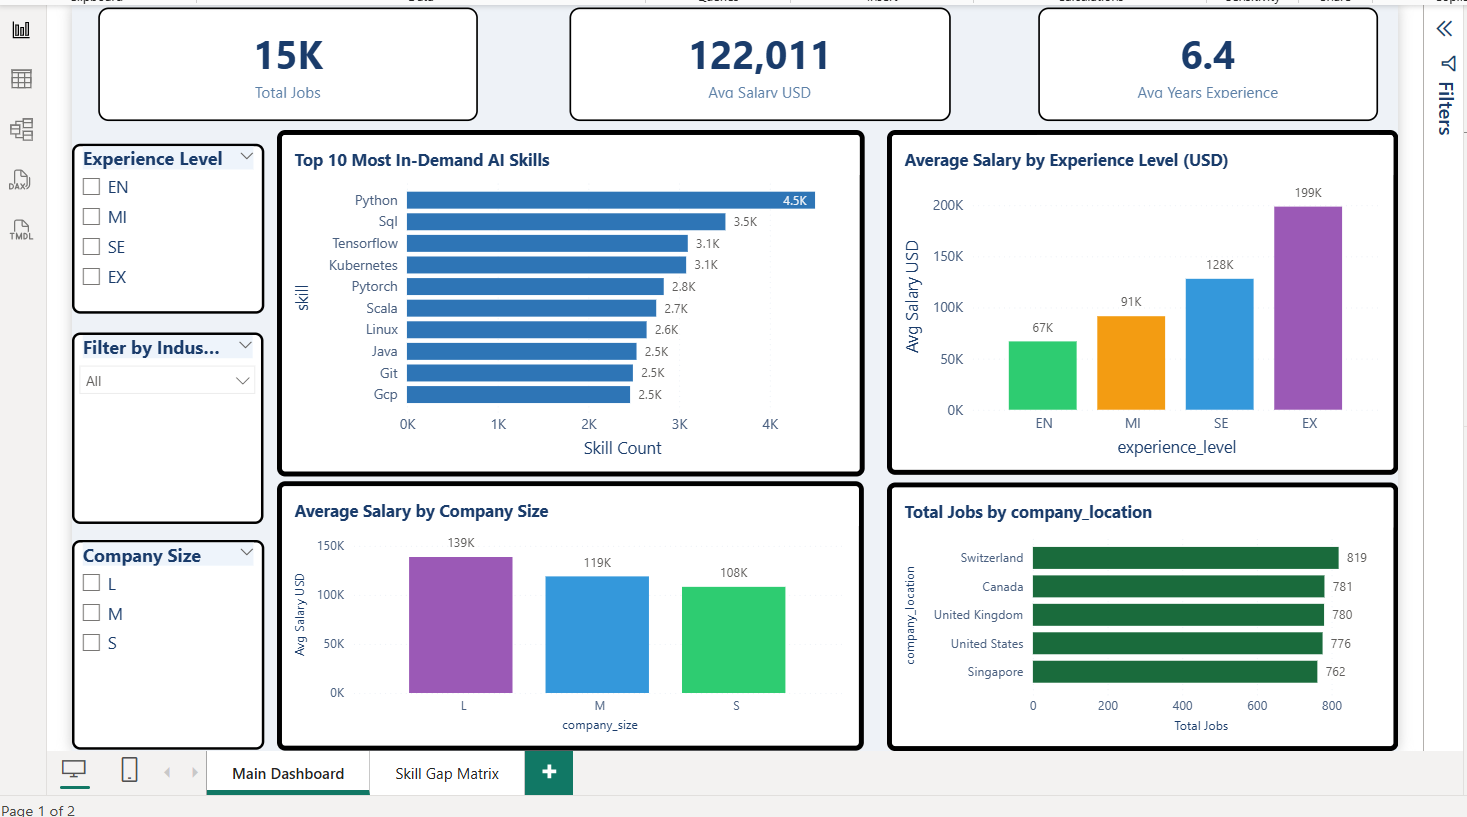

The page's visual inventory and layout, read from the dashboard file:
{"tool":"powerbi","page":{"name":"Main Dashboard","canvas":[1280,720],"ordinal":0},"visuals":[{"type":"card","fields":{"Values":["ai_job_dataset1.Total Jobs"]},"box":[25.3,2.4,366.8,109.8],"z":0},{"type":"card","fields":{"Values":["ai_job_dataset1.Avg Salary USD"]},"box":[480.2,2.4,368,109.8],"z":1000},{"type":"card","fields":{"Values":["ai_job_dataset1.Avg Years Experience"]},"box":[932.6,2.4,328.2,109.8],"z":2000},{"type":"slicer","fields":{"Values":["ai_job_dataset1.experience_level"]},"box":[0,133.9,185.8,164.1],"z":3000},{"type":"slicer","fields":{"Values":["ai_job_dataset1.industry"]},"box":[0,316.1,184.6,184.6],"z":4000},{"type":"slicer","title":"Company Size","fields":{"Values":["ai_job_dataset1.company_size"]},"box":[0,516.4,185.8,202.7],"z":5000},{"type":"clusteredBarChart","title":"Top 10 Most In-Demand AI Skills","fields":{"Category":["ai_job_dataset1.skill"],"Y":["ai_job_dataset1.Skill Count"]},"box":[197.9,120.6,567,334.2],"z":6000},{"type":"clusteredColumnChart","title":"Average Salary by Experience Level (USD)","fields":{"Category":["ai_job_dataset1.experience_level"],"Y":["ai_job_dataset1.Avg Salary USD"]},"box":[786.6,120.6,493.4,333],"z":7000},{"type":"clusteredColumnChart","title":"Average Salary by Company Size","fields":{"Category":["ai_job_dataset1.company_size"],"Y":["ai_job_dataset1.Avg Salary USD"]},"box":[197.6,460.2,566.1,259.8],"z":8000},{"type":"clusteredBarChart","fields":{"Category":["ai_job_dataset1.company_location"],"Y":["ai_job_dataset1.Total Jobs"]},"box":[786.6,460.9,493.4,259.4],"z":9000}]}

Visuals, with their boxes on the page's 1280x720 design canvas (x1, y1, x2, y2). These are canvas units, not pixel positions in the 1467x817 screenshot, which may show the page scaled, cropped or inside an application window:
card - ai_job_dataset1.Total Jobs: [left=25, top=2, right=392, bottom=112]
card - ai_job_dataset1.Avg Salary USD: [left=480, top=2, right=848, bottom=112]
card - ai_job_dataset1.Avg Years Experience: [left=933, top=2, right=1261, bottom=112]
slicer - ai_job_dataset1.experience_level: [left=0, top=134, right=186, bottom=298]
slicer - ai_job_dataset1.industry: [left=0, top=316, right=185, bottom=501]
"Company Size" slicer: [left=0, top=516, right=186, bottom=719]
"Top 10 Most In-Demand AI Skills" clusteredBarChart: [left=198, top=121, right=765, bottom=455]
"Average Salary by Experience Level (USD)" clusteredColumnChart: [left=787, top=121, right=1280, bottom=454]
"Average Salary by Company Size" clusteredColumnChart: [left=198, top=460, right=764, bottom=720]
clusteredBarChart - ai_job_dataset1.company_location x ai_job_dataset1.Total Jobs: [left=787, top=461, right=1280, bottom=720]
